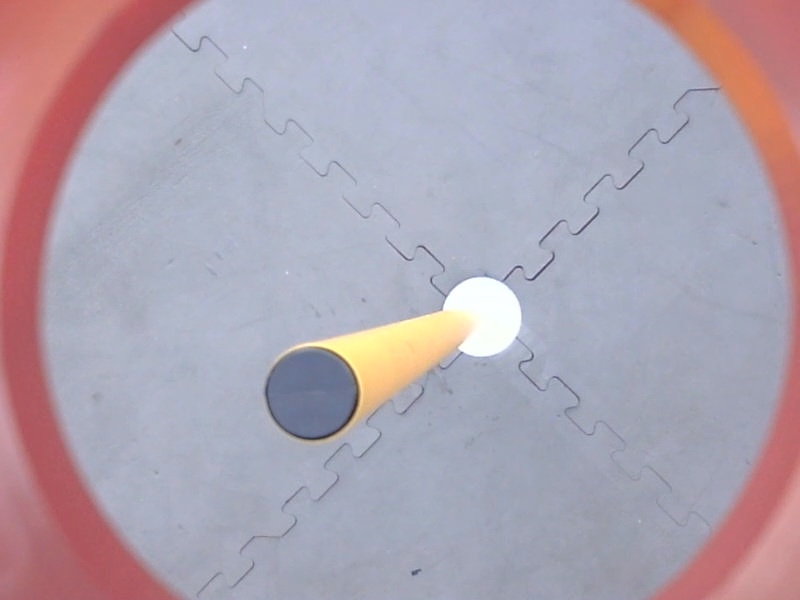tip: (256, 341, 368, 448)
